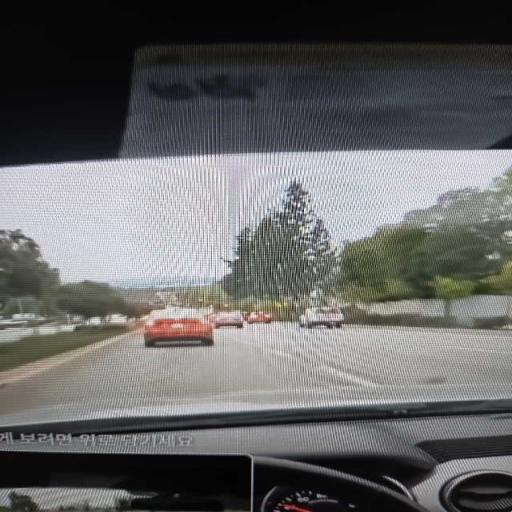car: (144, 309, 213, 346), (300, 307, 345, 327), (212, 311, 243, 328), (247, 311, 272, 324), (12, 313, 46, 322)
lane: (0, 323, 511, 418), (261, 324, 511, 385)
